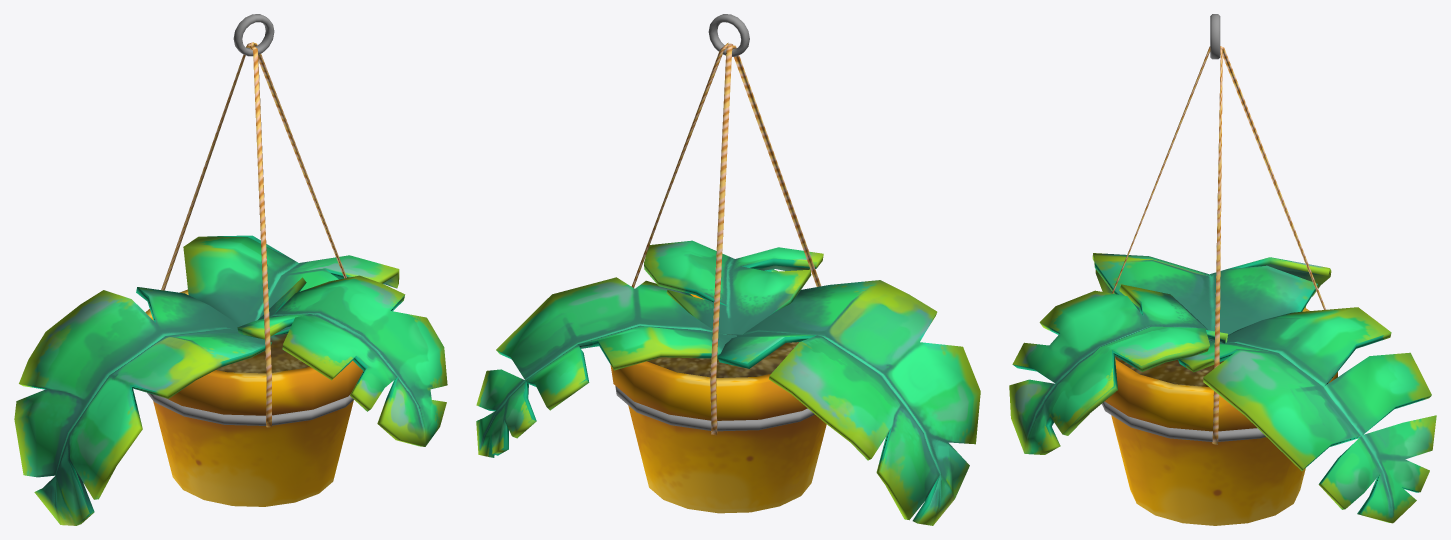
File: HangingPlant.glb
3 renders of one model, left to right at view 1: azimuth 30°, elevation 25°; view 2: azimuth 150°, elevation 25°; view 3: azimuth 270°, elevation 25°, orthographic. The views are drawn at different scales.
Parts seen in each view (by area): view 1: Planter; view 2: Planter; view 3: Planter.
Boxes of the visible parts, x1=… form: Planter: x1=14, y1=14, x2=447, y2=525; Planter: x1=476, y1=14, x2=980, y2=525; Planter: x1=1009, y1=14, x2=1436, y2=525.
Size of the model in its own units: 3.84 by 4.28 by 3.49.
Materials: 1 (1 with a texture image).
